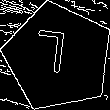L_S: (40, 30, 77, 84)
